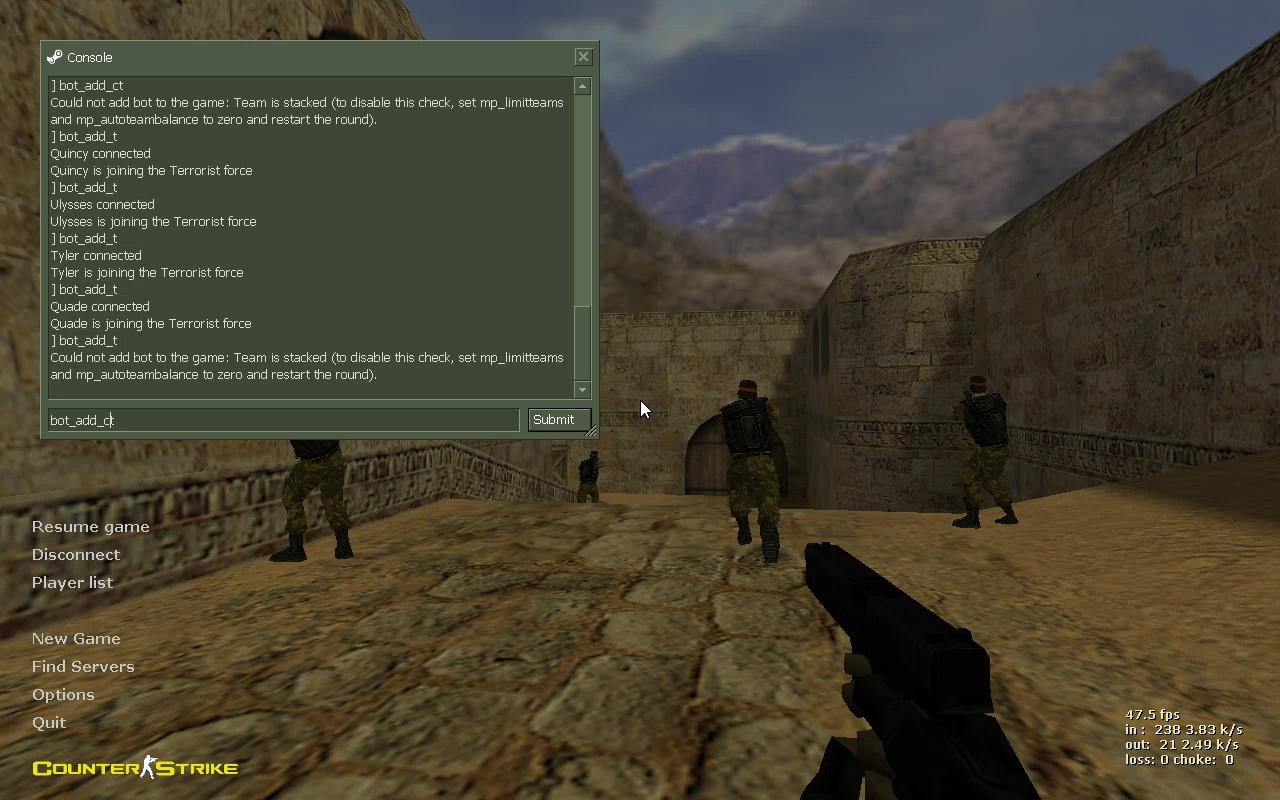terr1: (719, 377, 791, 563), (947, 375, 1019, 530), (574, 453, 602, 505)
